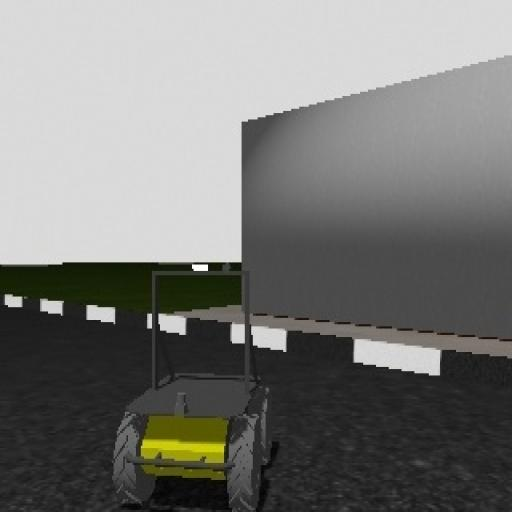huskya200: (102, 255, 318, 512)
